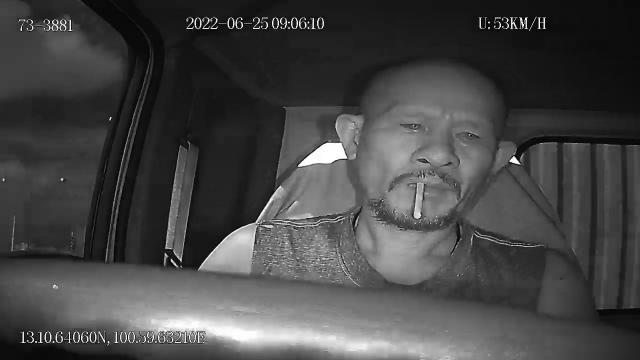SafeDriving: (446, 120, 486, 148), (389, 112, 432, 138)
Smoking: (412, 181, 426, 219)
